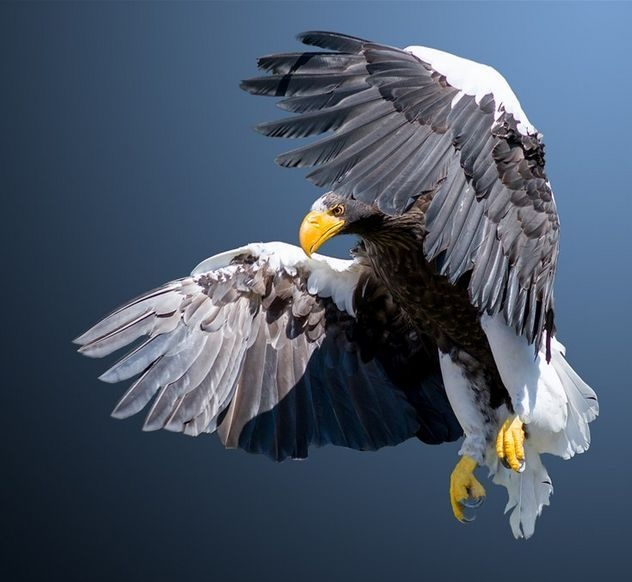bird: (70, 25, 632, 545)
